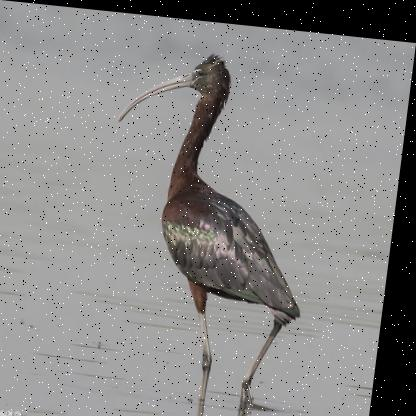Burung: (88, 40, 334, 415)
